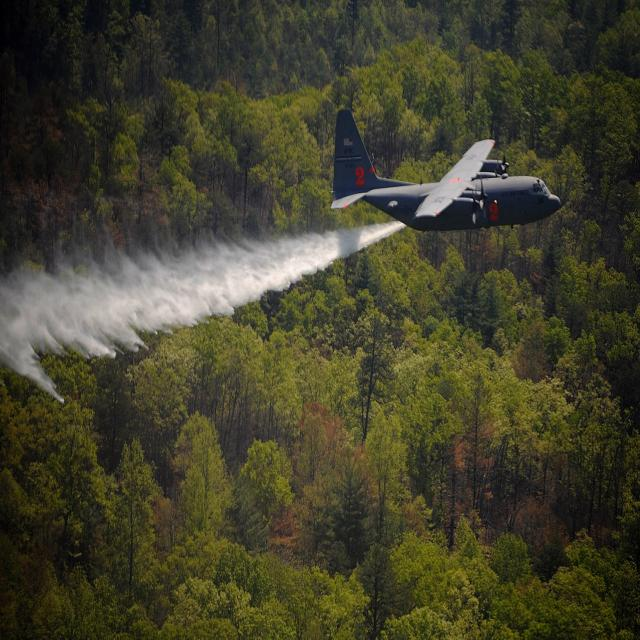MIL_Plane: (25, 76, 225, 200)
